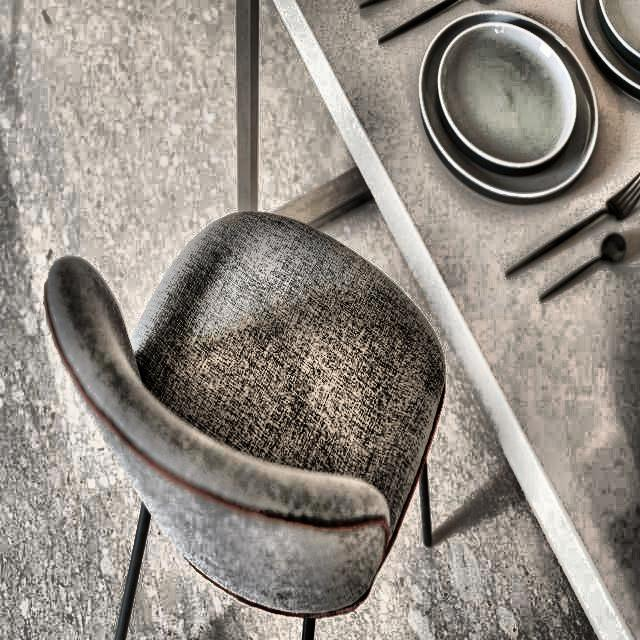cadeira: (41, 207, 450, 640)
